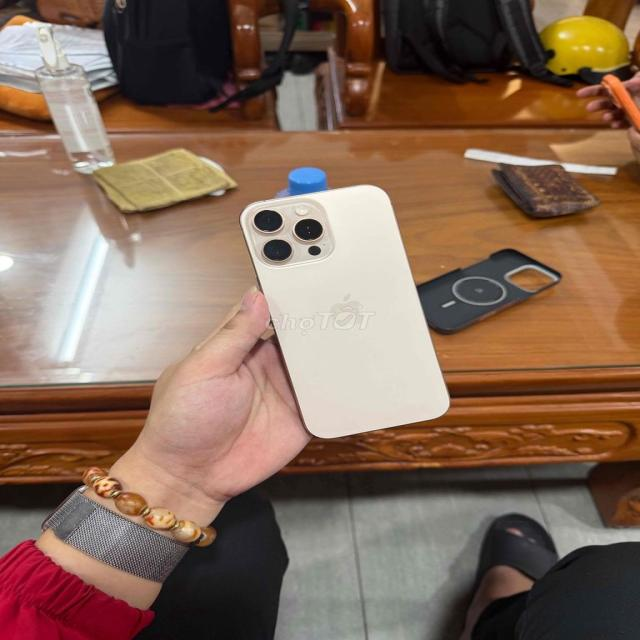gen_16: (242, 186, 448, 438)
